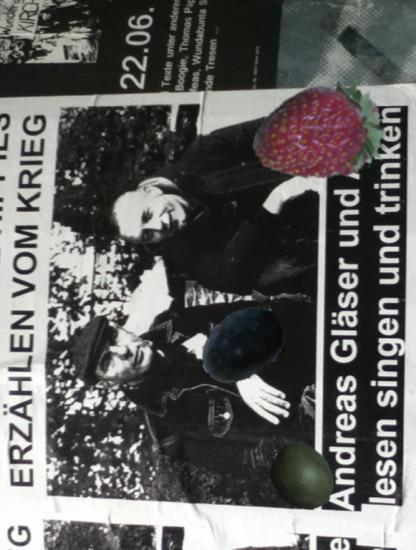Blueberry: (197, 301, 285, 389)
Mango: (264, 439, 339, 514)
Strawberry: (255, 71, 389, 205)
